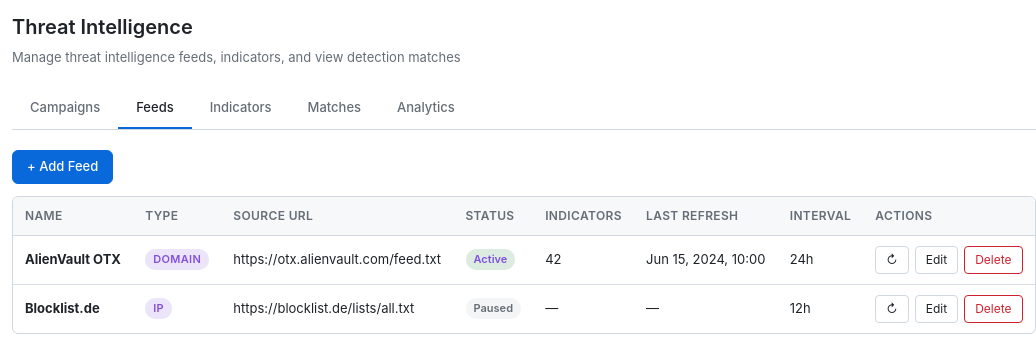
Scenario: ThreatIntelPage › switches to Indicators tab on click
Click the tab "Indicators" at (241, 108), box top-left (192, 88), bottom-right (290, 129)
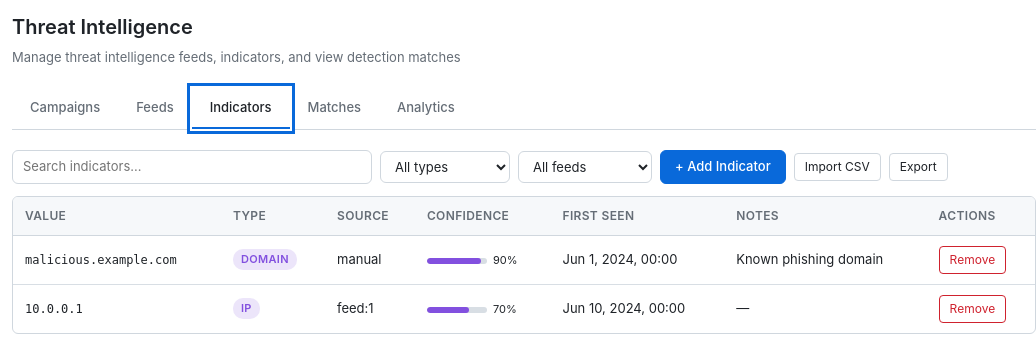
Expected: the text "malicious.example.com" is shown, top-left (25, 253), bottom-right (177, 267)
Expected: the text "10.0.0.1" is shown, top-left (25, 302), bottom-right (83, 316)
